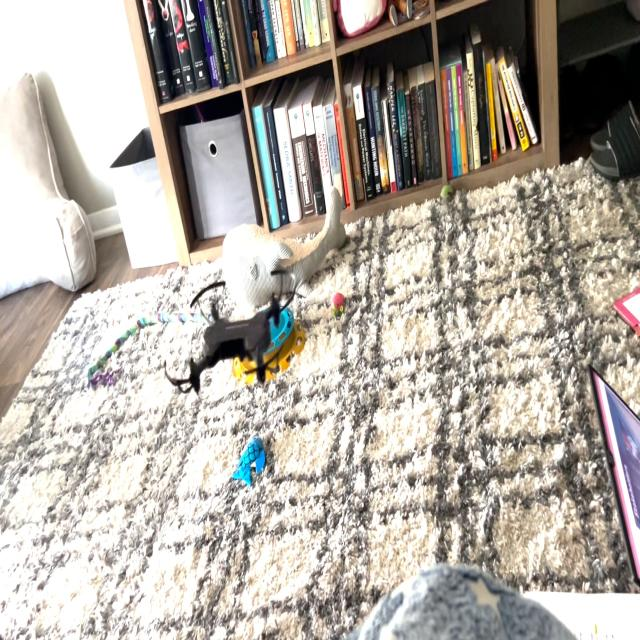drone: (155, 255, 307, 408)
